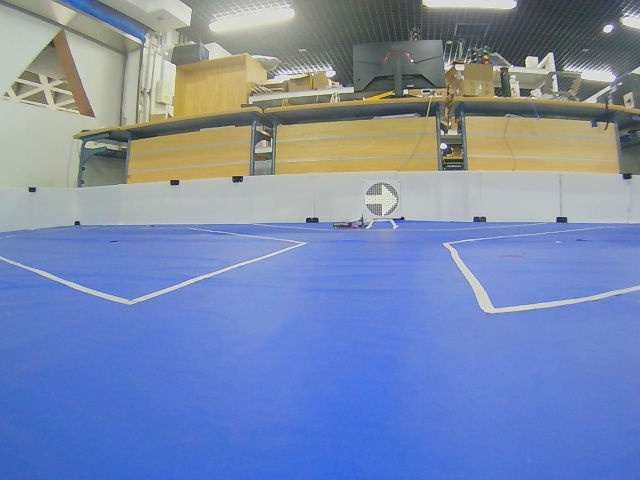right_yellow: (364, 182, 399, 216)
